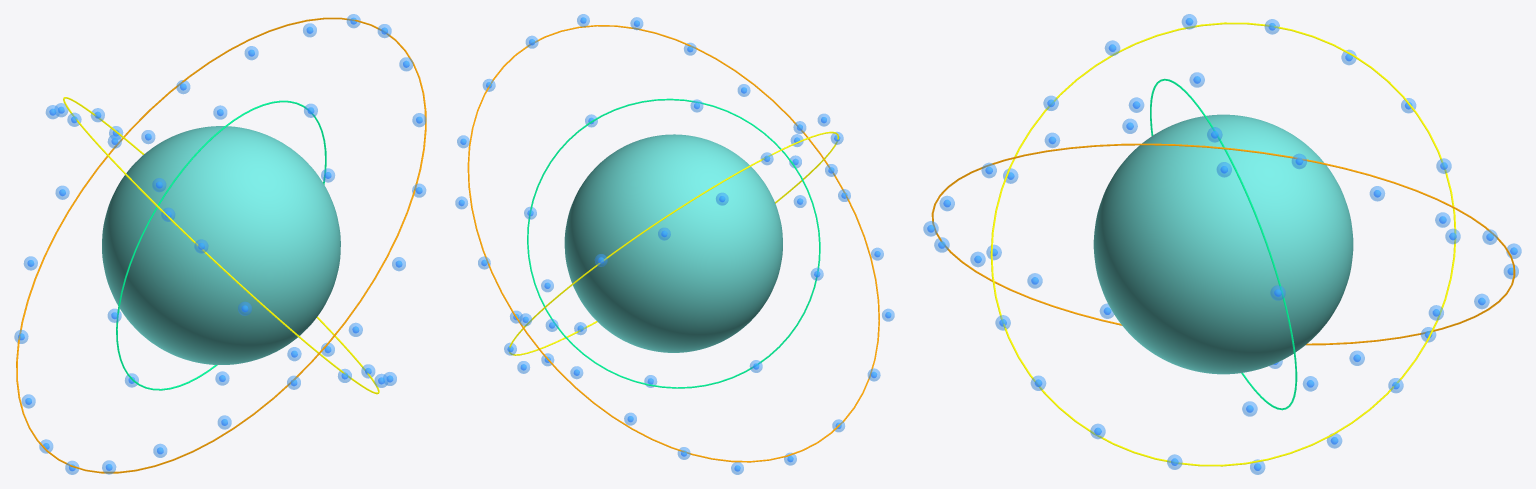
The picture shows the model from 3 angles, left to right: view 1: azimuth 30°, elevation 25°; view 2: azimuth 150°, elevation 25°; view 3: azimuth 270°, elevation 25°; orthographic projection. The views are drawn at different scales.
Visible parts, largest first — view 1: In, object 61, object 24, object 7; view 2: In, object 61, object 7, object 24; view 3: In, object 24, object 61, object 7.
Part boxes in pixels (box(x1,y1,x2,y2)): In: box(102, 126, 340, 364); object 61: box(16, 17, 426, 473); object 24: box(63, 97, 379, 394); object 7: box(116, 100, 326, 390); In: box(564, 134, 782, 352); object 61: box(467, 25, 879, 462); object 7: box(527, 98, 820, 388); object 24: box(509, 131, 839, 355); In: box(1093, 114, 1353, 374); object 24: box(990, 22, 1456, 466); object 61: box(931, 143, 1515, 345); object 7: box(1150, 78, 1297, 410).
Size of the model in its own units: 4.44 by 4.58 by 6.14.
